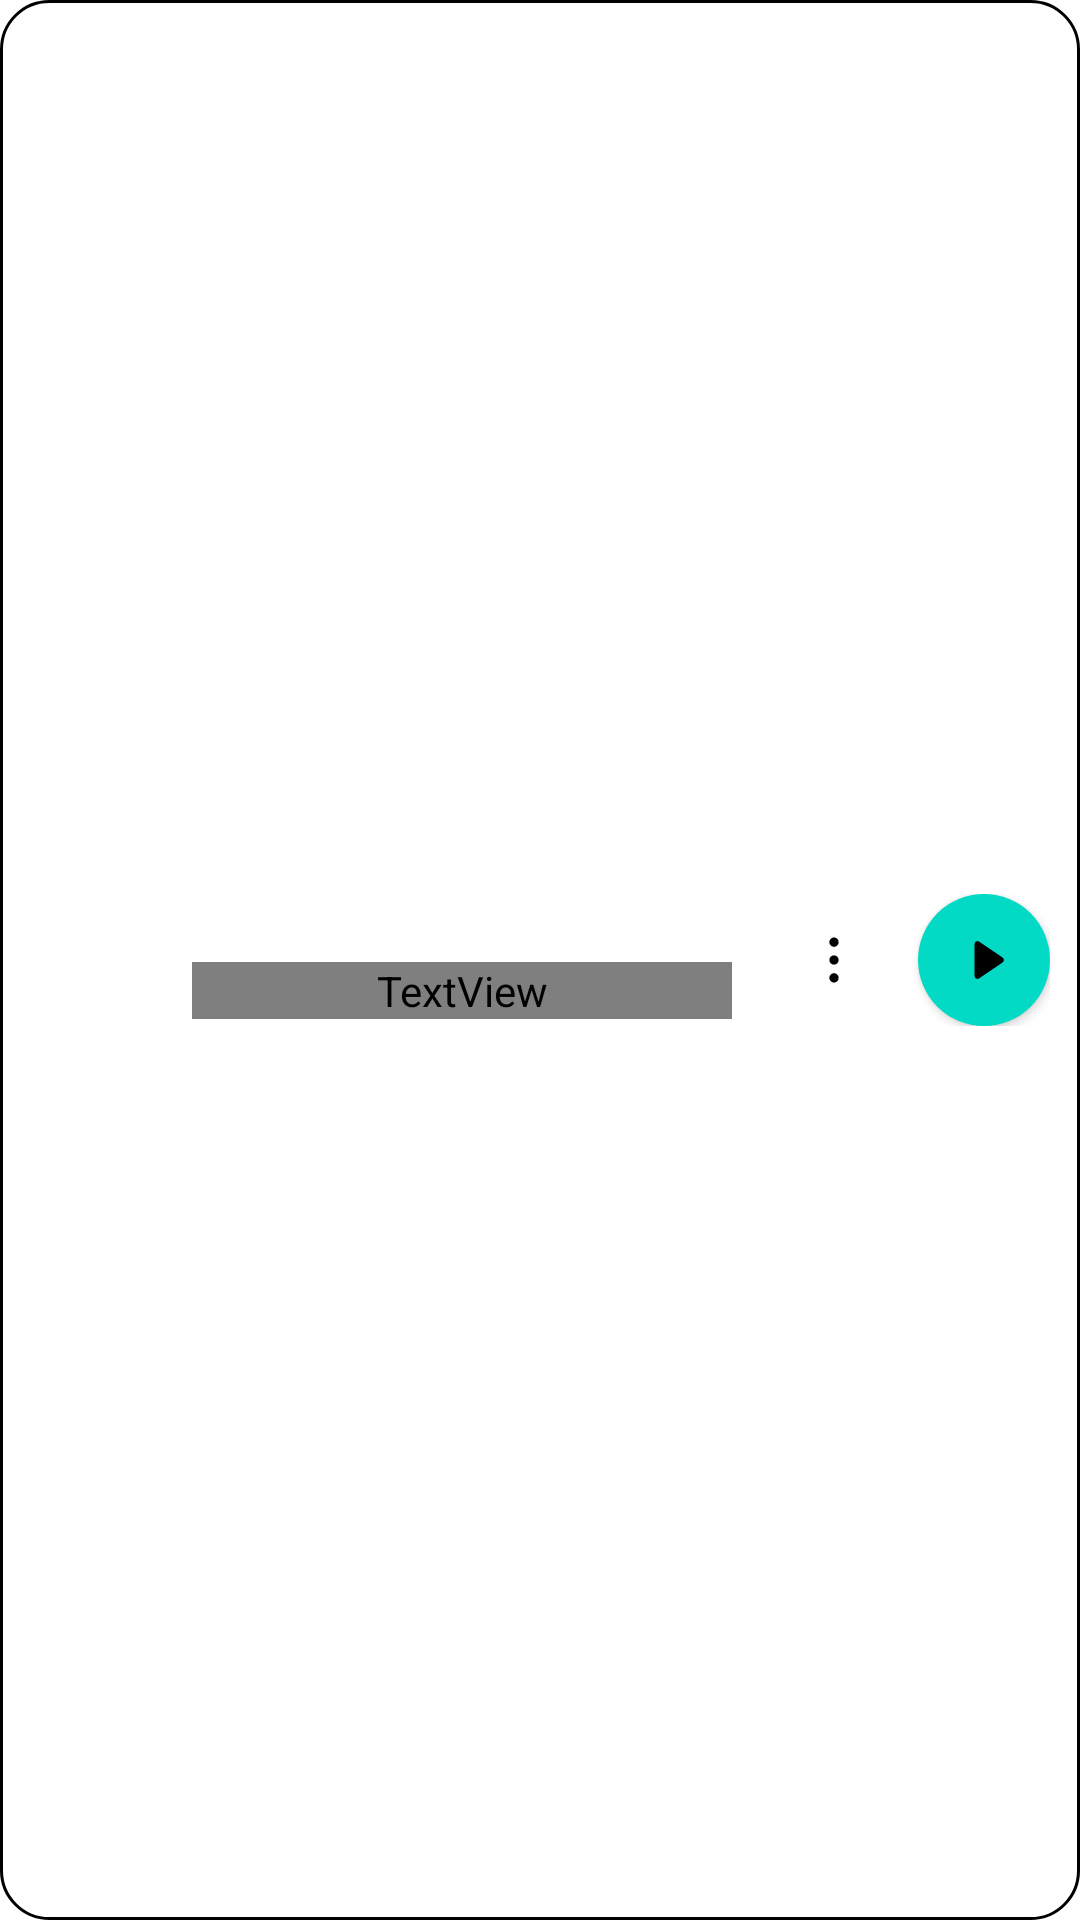

Where to tap for icons on this 1080x1920 app screen, as point (x, y):
Run: point (984, 960)
